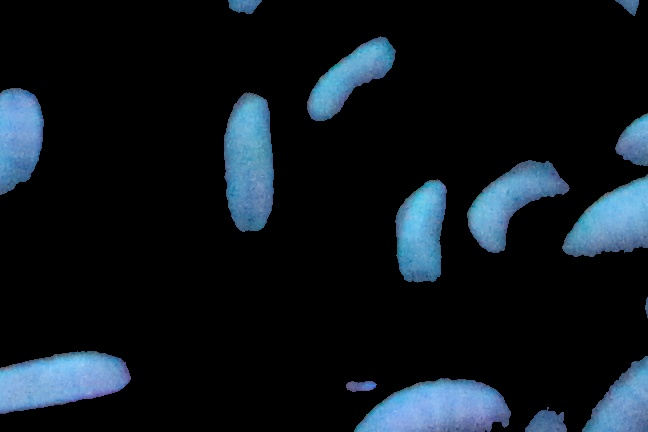larvae: (465, 159, 578, 251), (343, 376, 503, 432), (1, 351, 132, 419), (552, 174, 648, 266), (224, 90, 277, 235), (307, 37, 392, 123), (397, 178, 447, 297), (1, 88, 41, 215)
